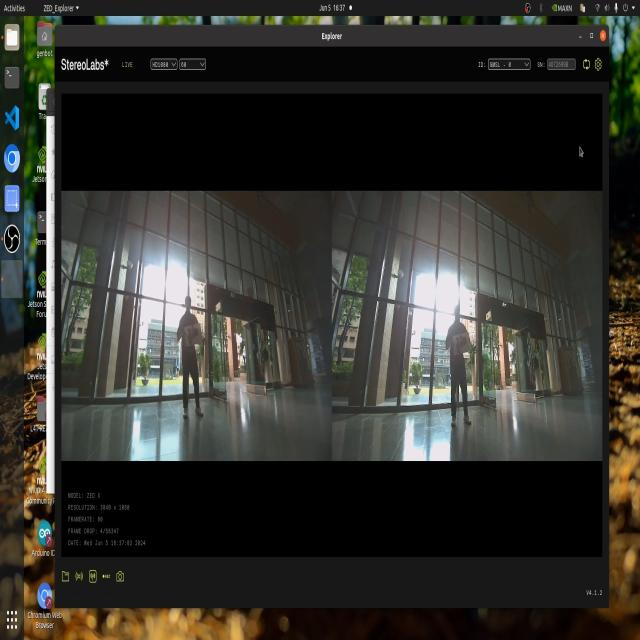blue: (182, 321, 204, 344), (452, 335, 469, 355)
